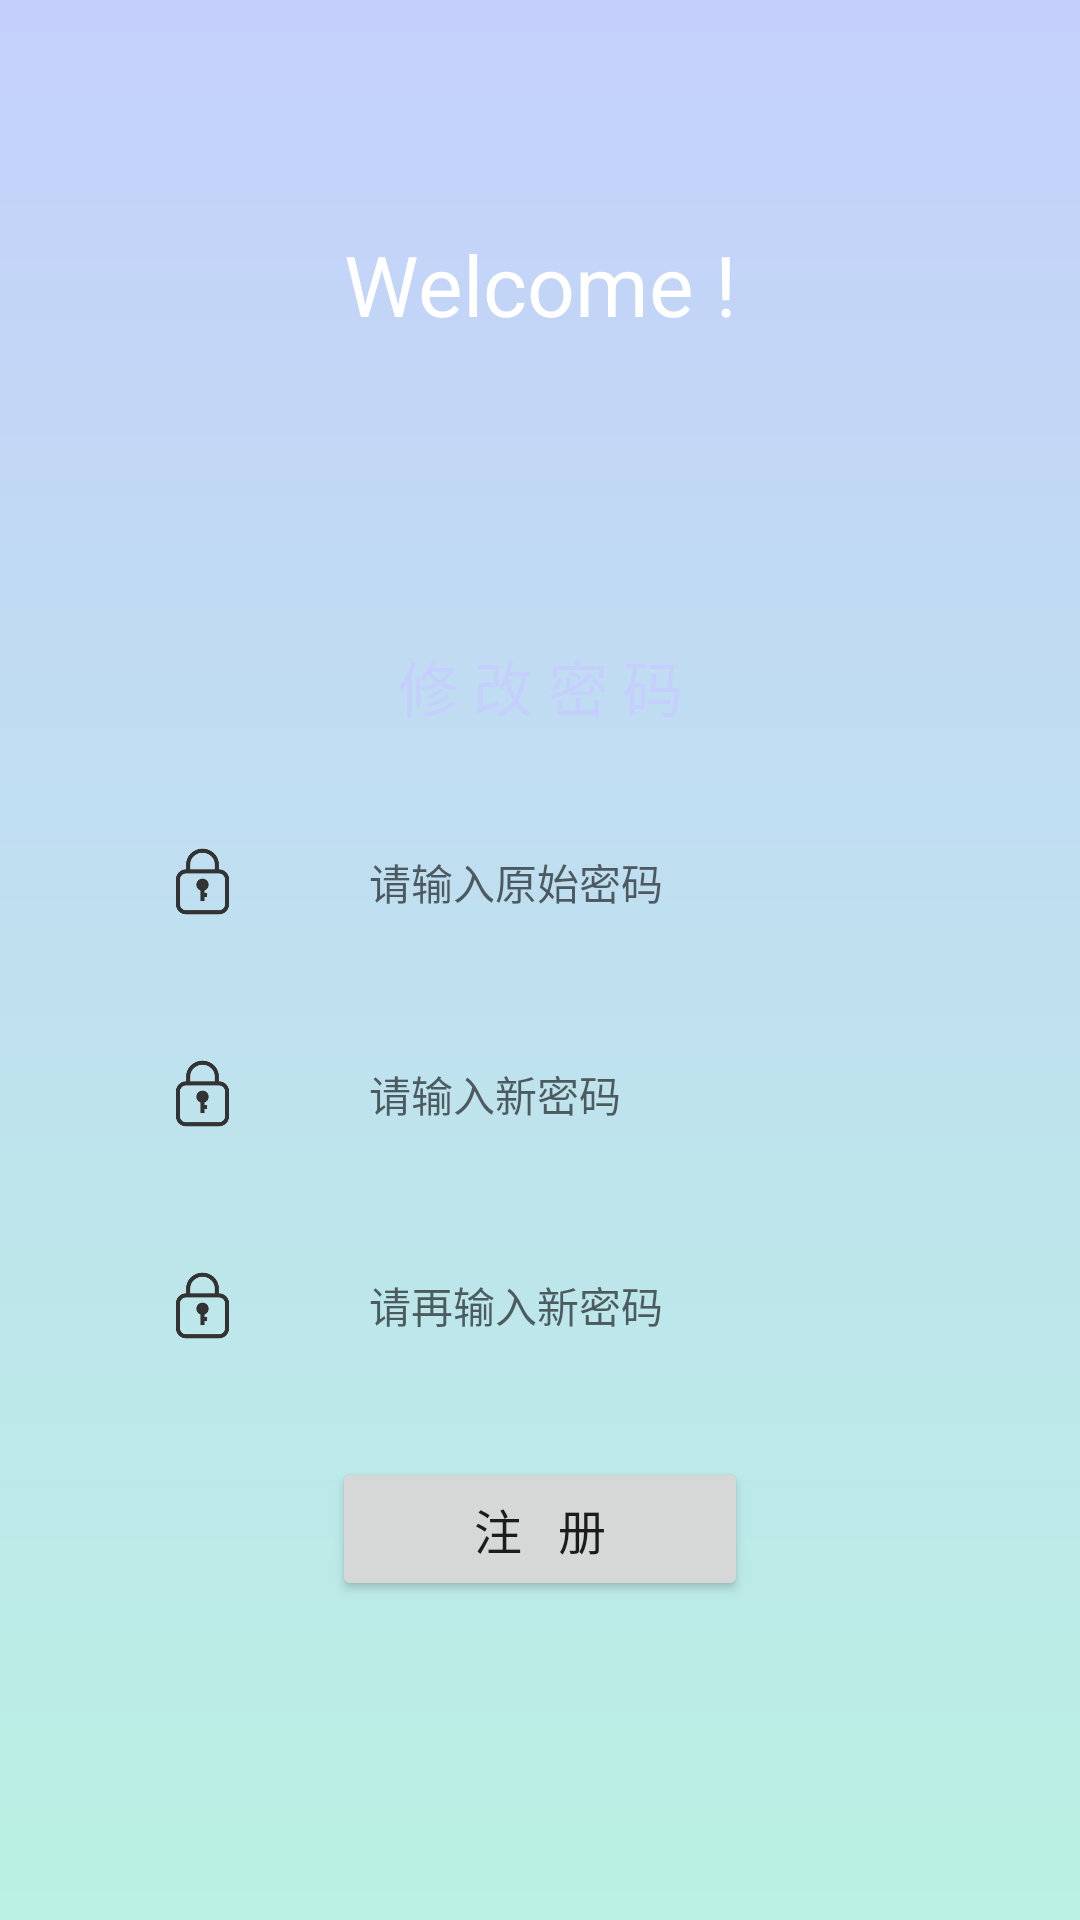

Where to tap for icons on this 1080 x 1920 app screen, as (x=x, y=y):
password: (x=202, y=881), (x=202, y=1093), (x=202, y=1305)
